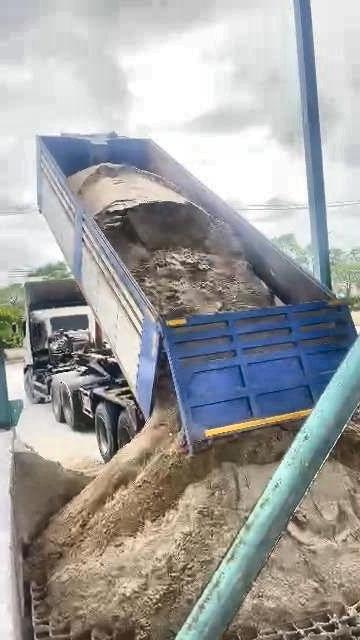sand: (27, 388, 293, 639), (226, 401, 360, 639), (69, 164, 274, 315), (12, 451, 89, 544), (66, 457, 102, 478)
